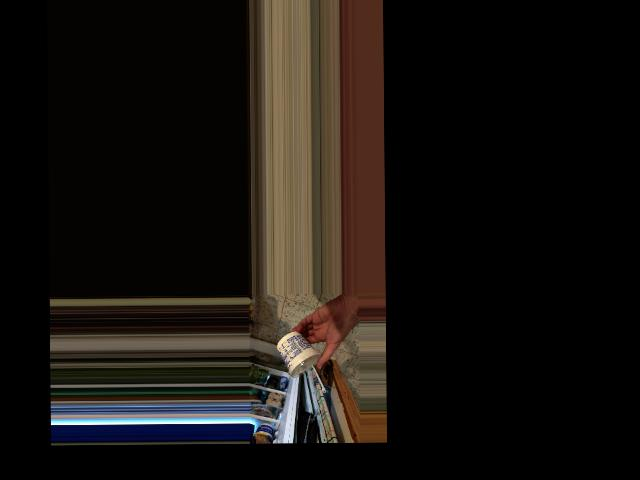cotage: (278, 337, 321, 379)
